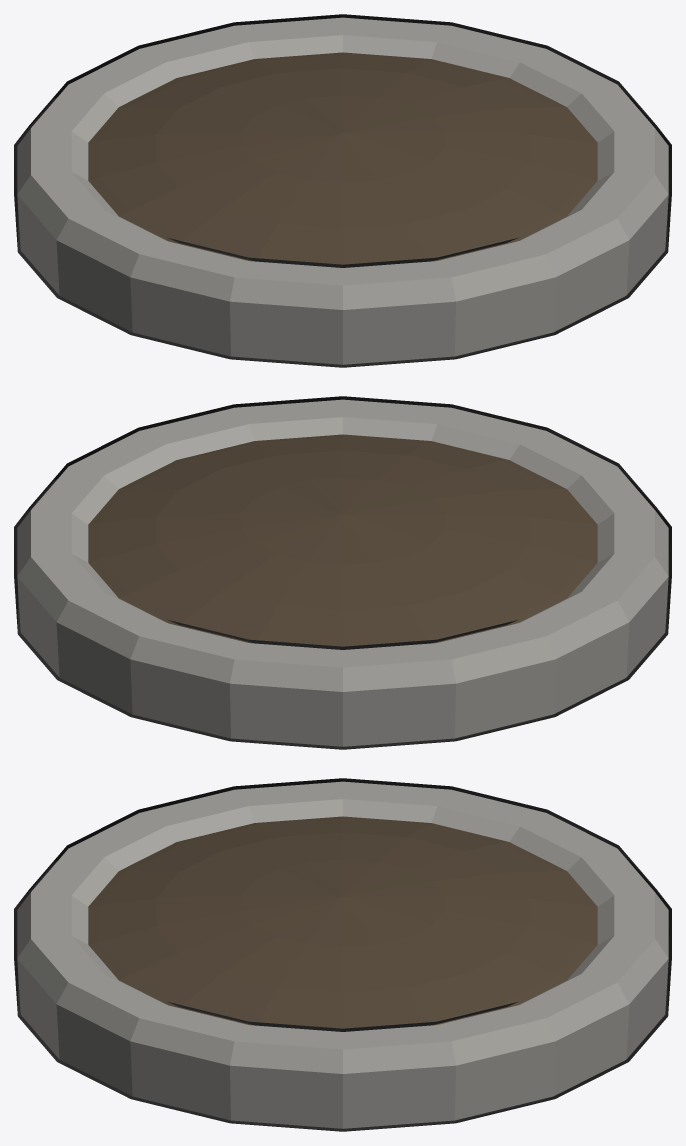
The model's file is parkgrowbed.fbx.
3 renders of one model, top to bottom at view 1: azimuth 30°, elevation 25°; view 2: azimuth 150°, elevation 25°; view 3: azimuth 270°, elevation 25°, orthographic.
Visible parts, largest first — view 1: Park_FlowerBed; view 2: Park_FlowerBed; view 3: Park_FlowerBed.
Part boxes in pixels (<box>): Park_FlowerBed: <box>14,14,671,367</box>; Park_FlowerBed: <box>14,396,671,749</box>; Park_FlowerBed: <box>14,778,671,1131</box>.
Bounding box in the file's own units: 194 × 34 × 191.
